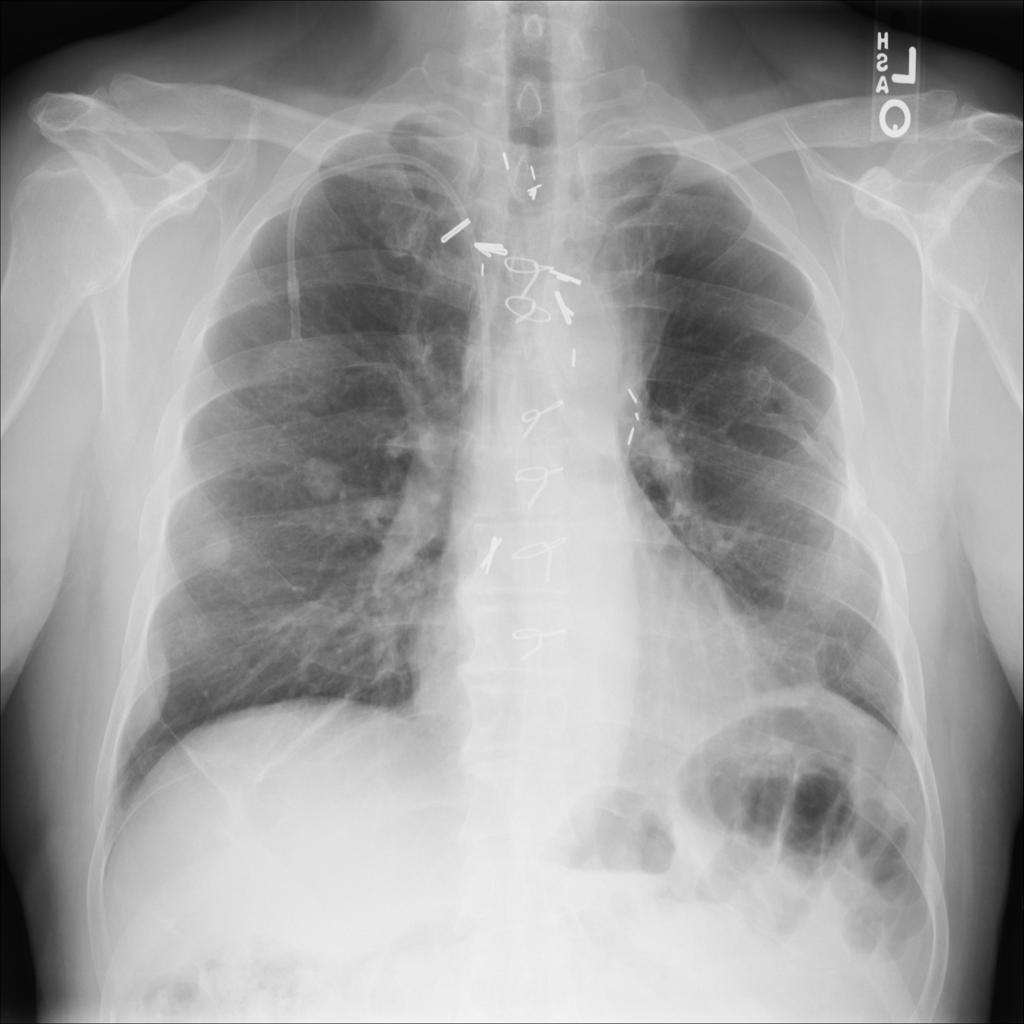nodule: (236, 322, 353, 426), (181, 513, 254, 585), (289, 444, 357, 511)
